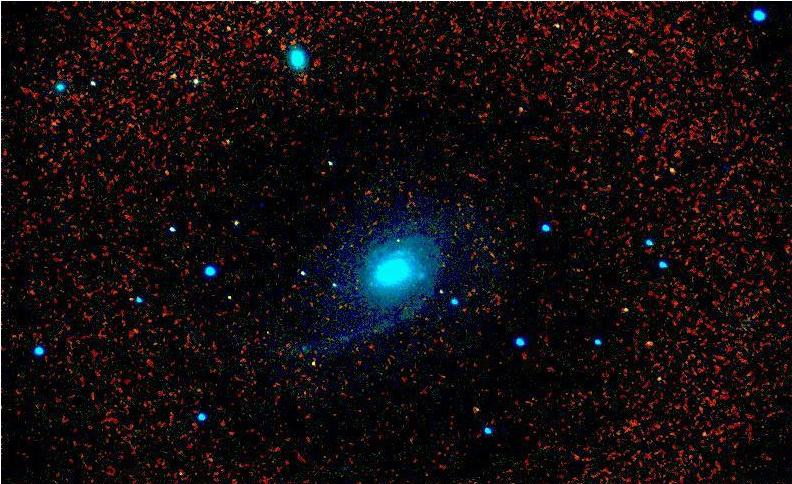star: (610, 296, 640, 326)
